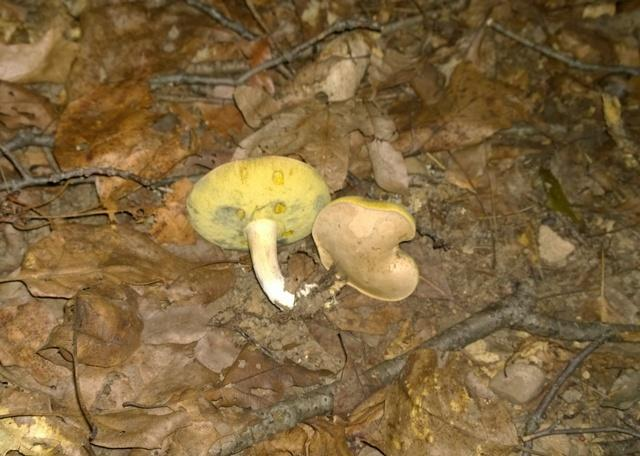Edible Mushroom: (184, 153, 331, 311), (311, 194, 419, 302)
